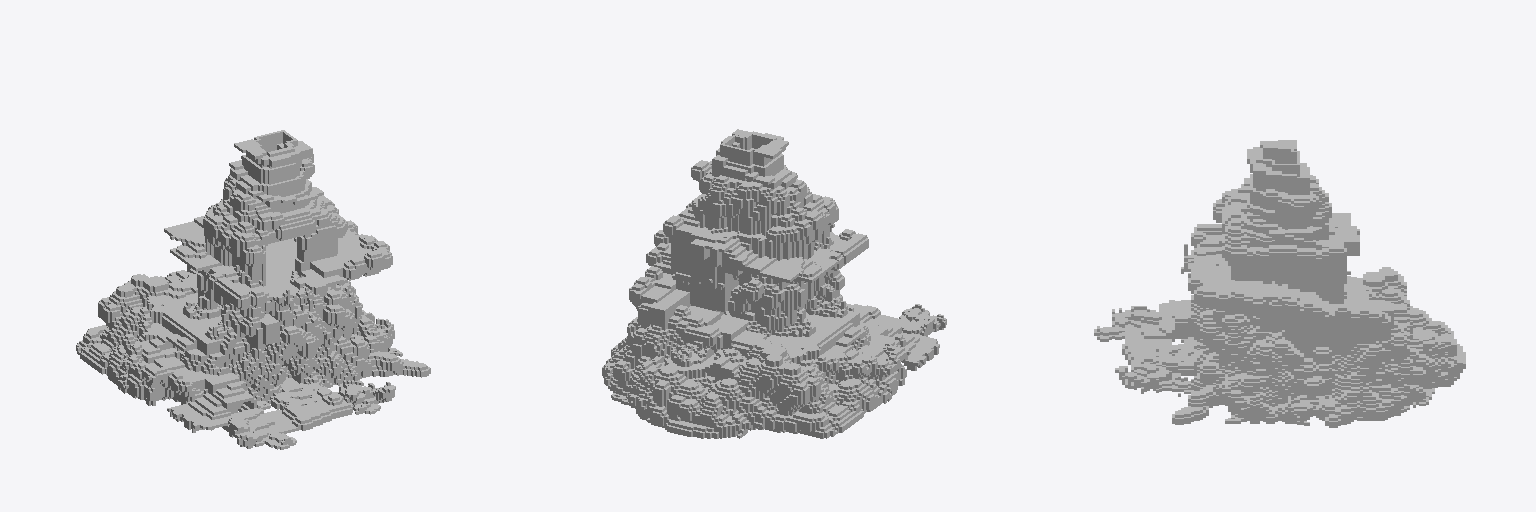
The model's file is Volcano Island.obj.
3 renders of one model, left to right at view 1: azimuth 30°, elevation 25°; view 2: azimuth 150°, elevation 25°; view 3: azimuth 270°, elevation 25°, orthographic.
Parts seen in each view (by area): view 1: object 1; view 2: object 1; view 3: object 1.
Boxes of the visible parts, x1=… form: object 1: x1=76, y1=130, x2=430, y2=449; object 1: x1=602, y1=129, x2=946, y2=438; object 1: x1=1094, y1=140, x2=1465, y2=427.
Bounding box in the file's own units: 9.4 × 7.7 × 11.9.